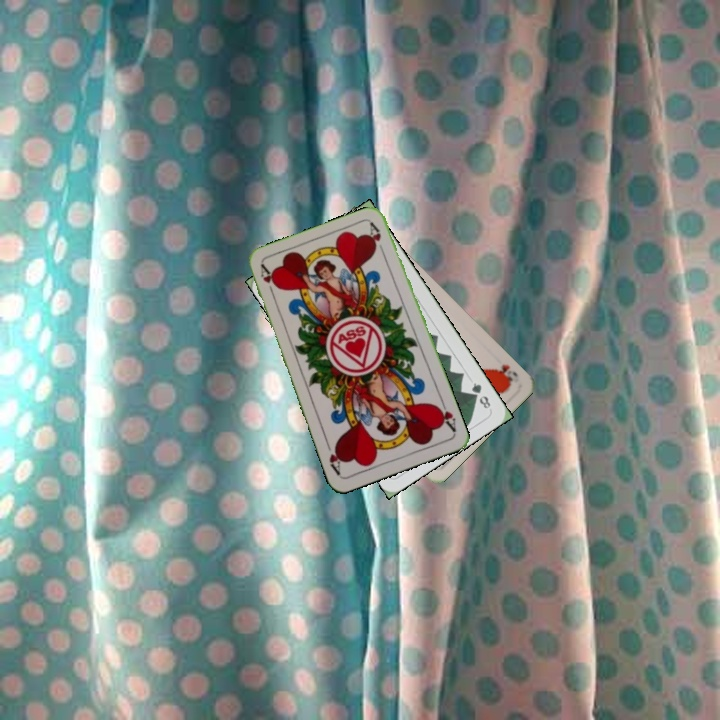G8: (467, 378, 493, 411)
HA: (432, 396, 459, 435), (256, 261, 280, 301)
HO: (492, 360, 521, 387)
